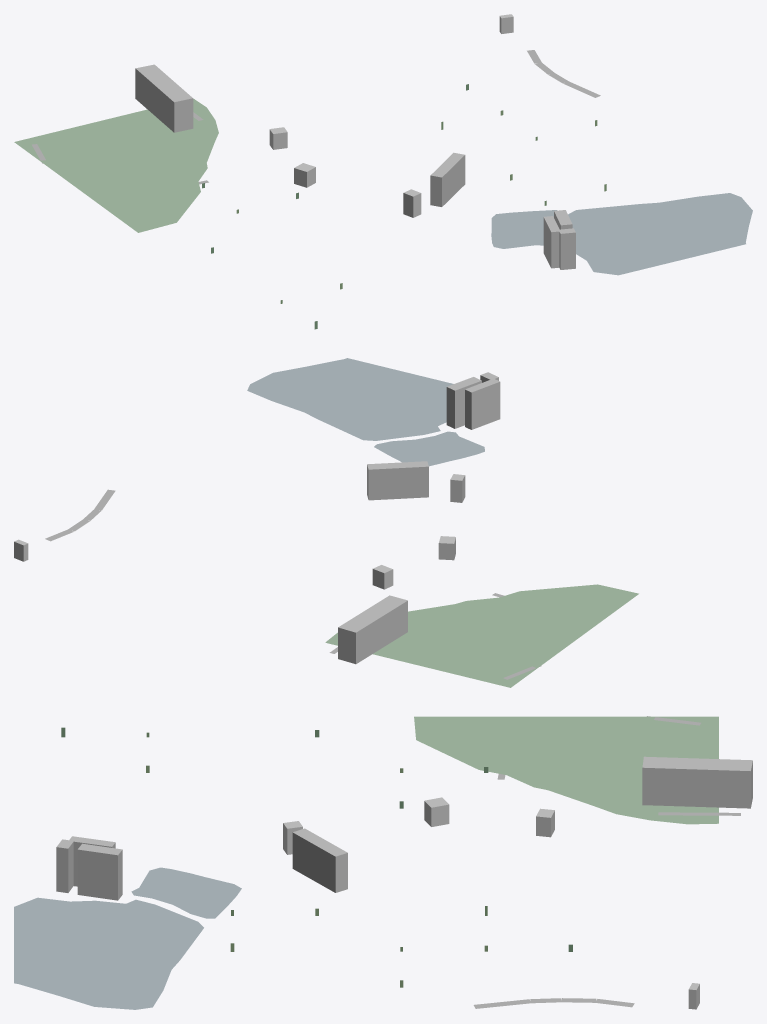
3 renders of one model, top to bottom at view 1: azimuth 30°, elevation 25°; view 2: azimuth 150°, elevation 25°; view 3: azimuth 270°, elevation 25°, orthographic. The views are drawn at different scales.
Bounding box in the file's own units: 493 × 35.57 × 524.
